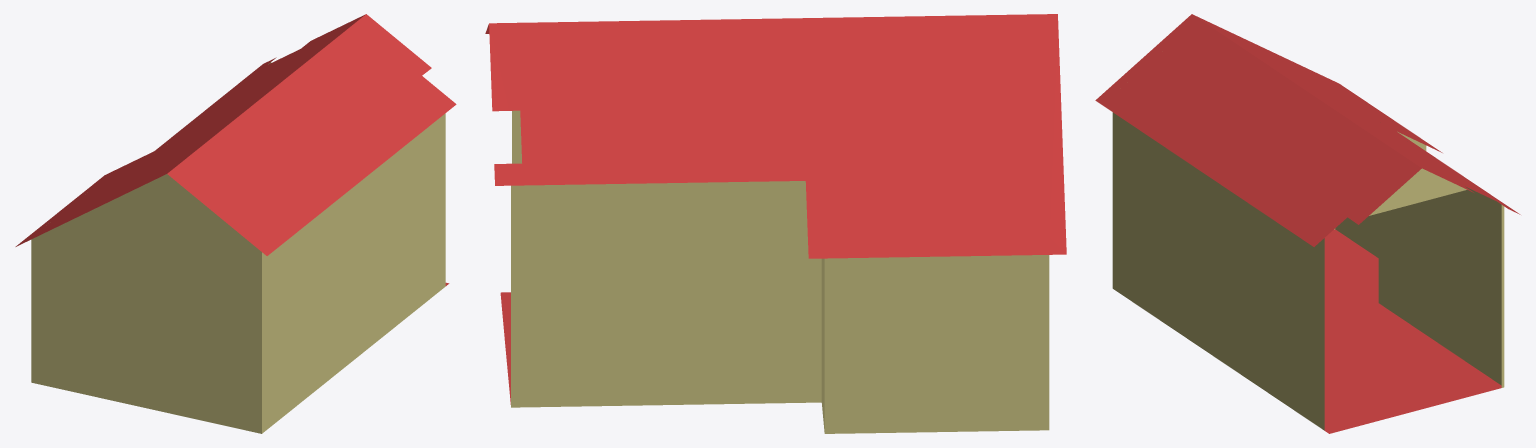
3 views of the same model, side by side, from view 1: azimuth 30°, elevation 25°; view 2: azimuth 150°, elevation 25°; view 3: azimuth 270°, elevation 25° (orthographic). The views are drawn at different scales.
Bounding box in the file's own units: 19.86 × 16.88 × 10.8.
